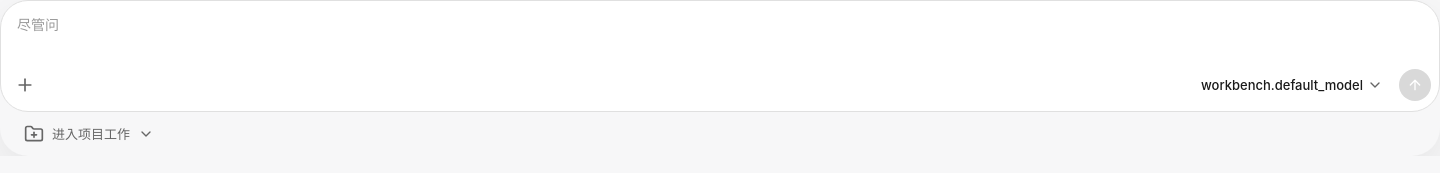
Test case: ChatInput › does not include enter-project work as a menu item
The image size is (1440, 173).
Step 1. Click the button with test id "project-work-button" → coordinates (89, 134), box 16,116 -> 162,152
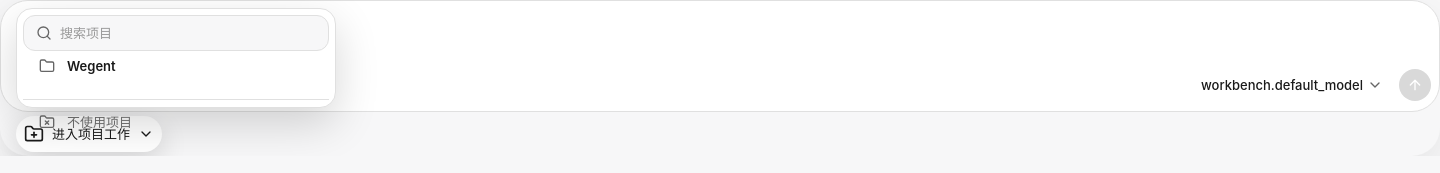
Expected: the element with test id "project-work-menu" does not show "进入项目工作", 16,8 -> 336,108
Expected: the button with test id "no-project-option" reads "不使用项目", 23,106 -> 329,138
